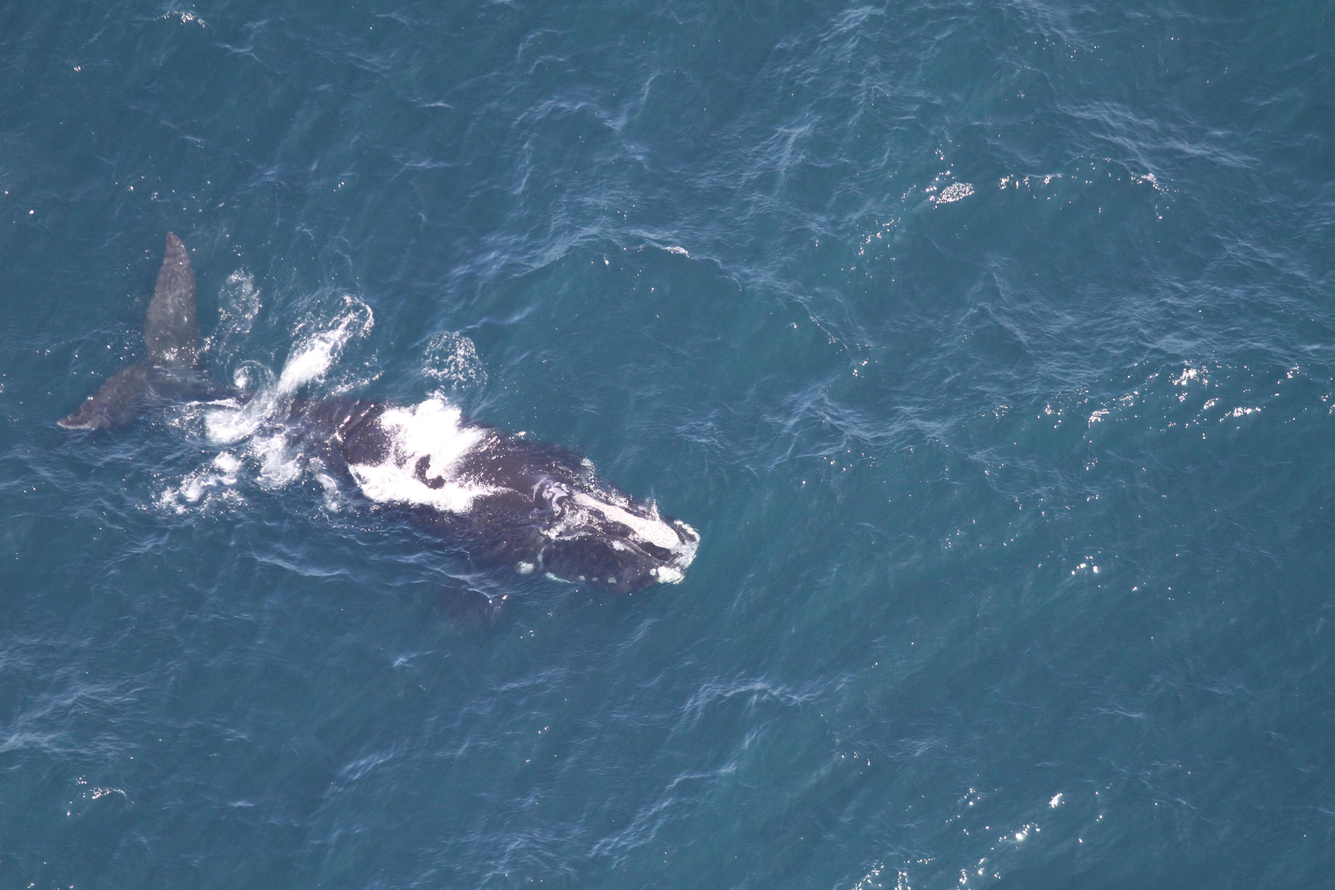whale: (49, 218, 708, 606)
